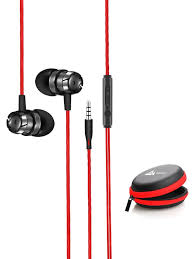earphone: (31, 47, 83, 124), (6, 79, 57, 157)
